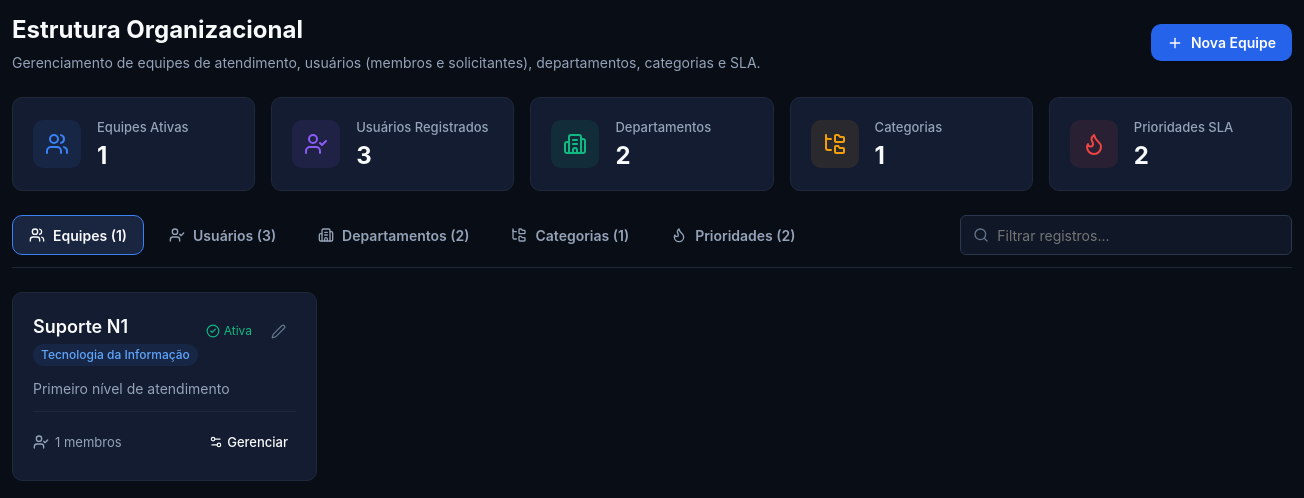
Test: TeamsPage Component › switches to categories tab and displays categories list
This screenshot has width=1304, height=498.
Click the button "Categorias (1)" at [570, 235], box [494,215,646,255]
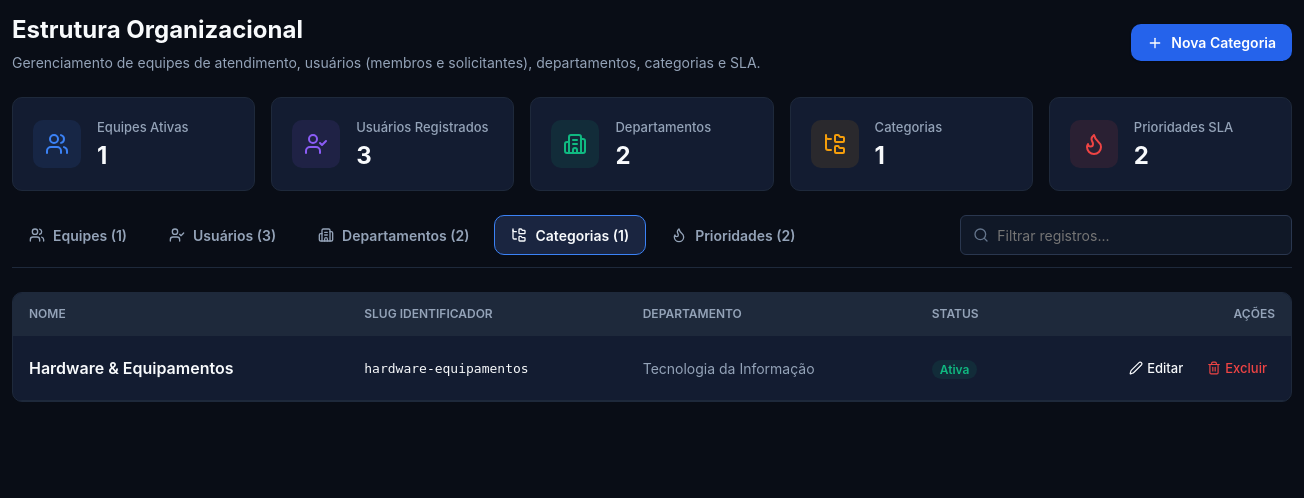
Result: the text "Hardware & Equipamentos" is shown at [13,336,348,401]
Result: the text "hardware-equipamentos" is shown at [348,336,627,401]
